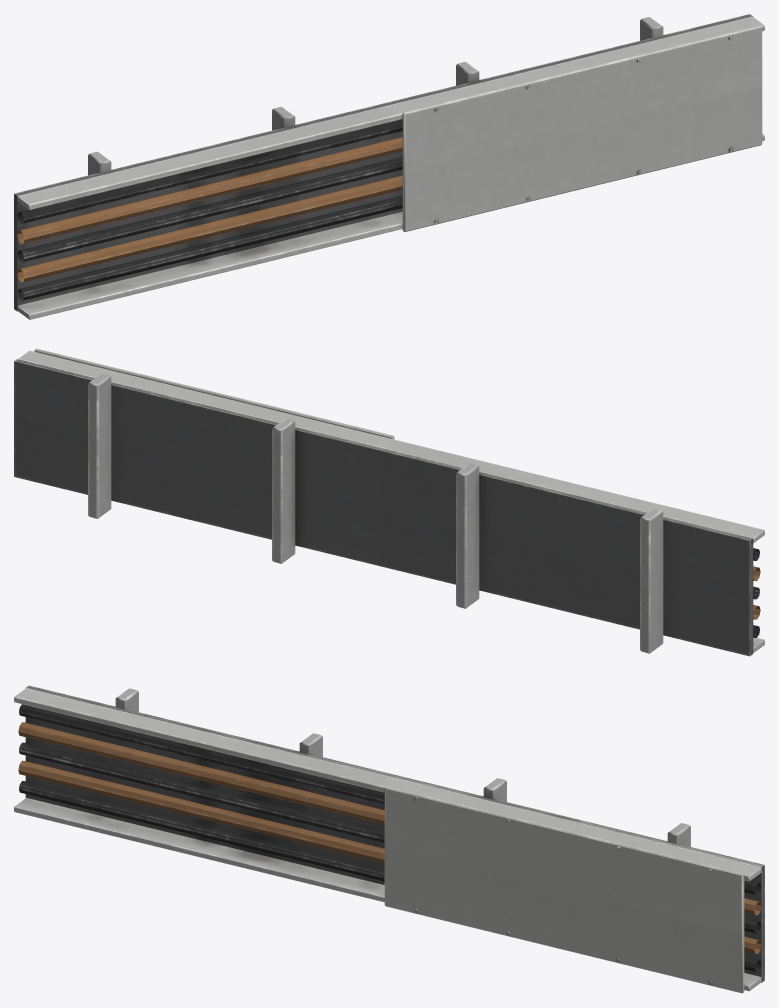
The model's file is conduit.glb.
3 views of the same model, one above another, from view 1: azimuth 30°, elevation 25°; view 2: azimuth 150°, elevation 25°; view 3: azimuth 330°, elevation 25° (orthographic).
Parts seen in each view (by area): view 1: conduit; view 2: conduit; view 3: conduit.
Boxes of the visible parts, x1=… form: conduit: x1=14, y1=14, x2=764, y2=319; conduit: x1=14, y1=348, x2=764, y2=656; conduit: x1=14, y1=685, x2=764, y2=993.
Bounding box in the file's own units: 4 × 0.6997 × 0.2979.
1 material, 1 textured.
